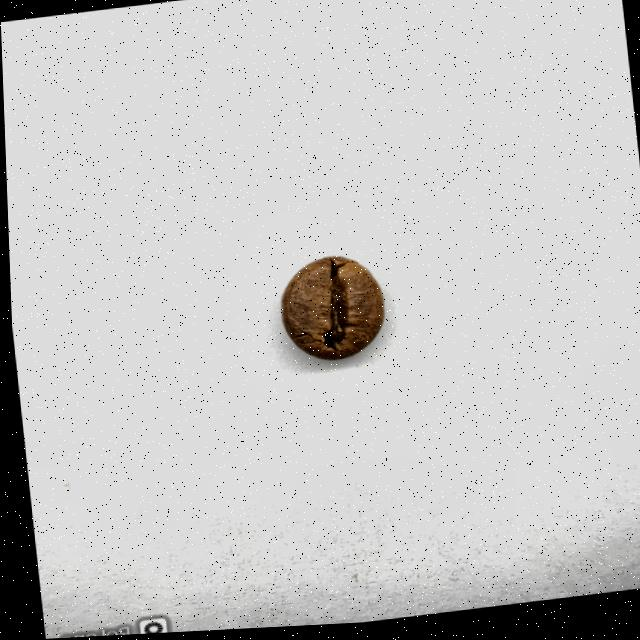Good bean: (273, 253, 388, 369)
